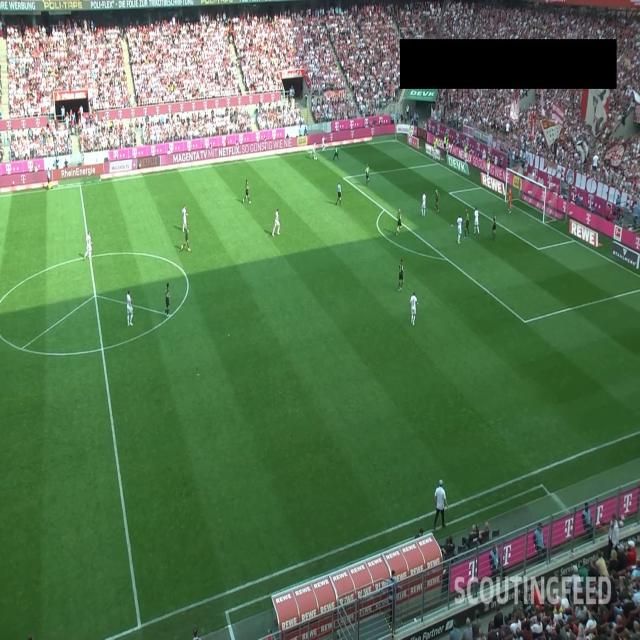ball: (315, 156, 318, 160)
